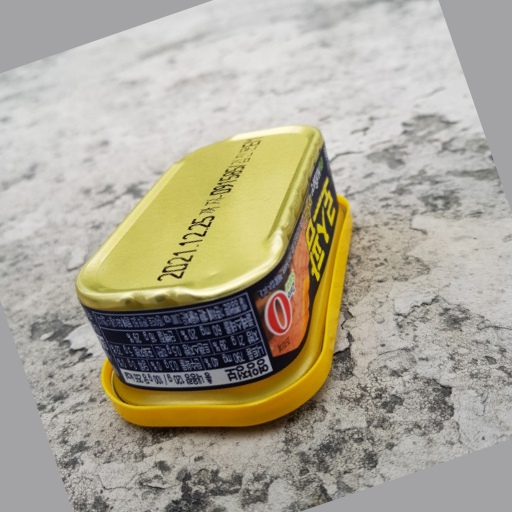Metal_2: (75, 125, 354, 429)
